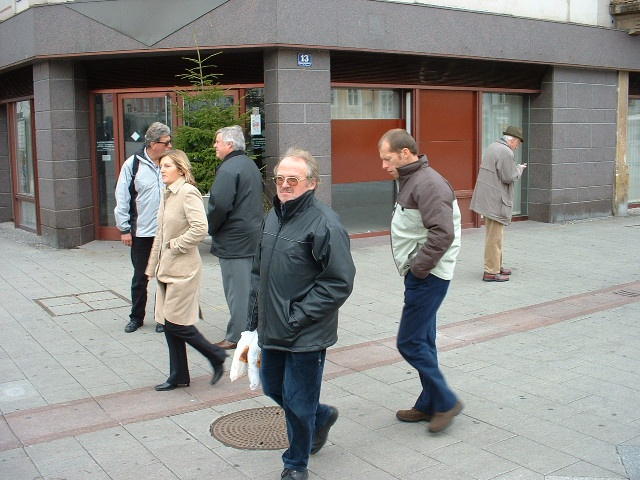person: (244, 146, 353, 476), (371, 134, 470, 431), (144, 149, 223, 390), (112, 114, 179, 331), (202, 127, 265, 346), (476, 121, 524, 282)
